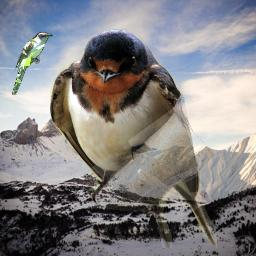Cuckoo: (12, 32, 53, 95)
Swallow: (50, 29, 217, 248)
